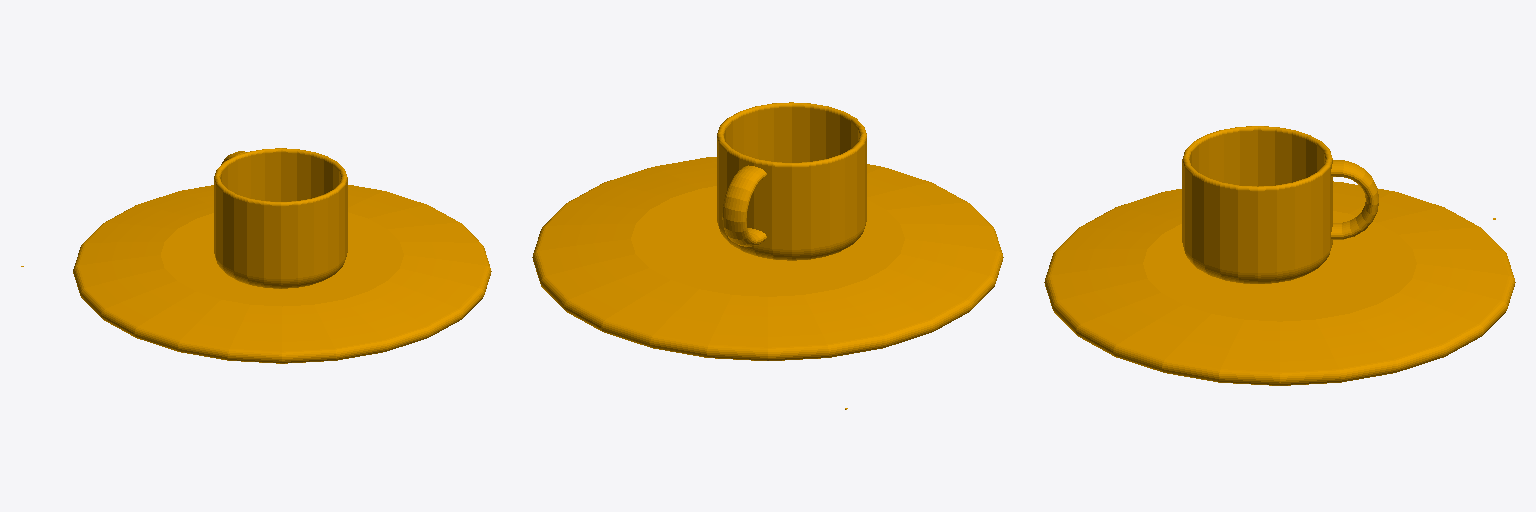
URDF robot description (my_object):
<?xml version="1.0" ?> 
<robot name="my_object">
  <link name="base_link">
  <inertial>
    <mass value="0.01" />
    <origin xyz="0 0 0.0" />
    <inertia  ixx="1.0" ixy="0.0"  ixz="0.0"  iyy="1.0"  iyz="0.0"  izz="1.0" />
  </inertial>
  <visual>
   <origin xyz="0 0 0.0" rpy="0 0 0" />
   <geometry>
     <mesh filename="package://cob_gazebo_objects/Media/models/cupAndPlate.dae" scale="0.2 0.2 0.2" />
   </geometry>
  </visual>
  <collision>
   <origin xyz="0 0 0.0" rpy="0 0 0" />
   <geometry>
     <!--mesh filename="package://cob_gazebo_objects/Media/models/cupAndPlate.dae" scale="0.2 0.2 0.2"-->
   </geometry>
  </collision>     
  </link>

<gazebo>
	<static>true</static>
</gazebo>
</robot>

--- What the picture shows (computed from the rendered views, not written in the file) ---
3 views of the same robot in one strip: view 1: azimuth 30°, elevation 25°; view 2: azimuth 150°, elevation 25°; view 3: azimuth 270°, elevation 25° (orthographic).
Model my_object with 1 links and 0 joints (none), rooted at base_link, posed all joints at 0.
Visible links, largest first — view 1: base_link; view 2: base_link; view 3: base_link.
Link boxes in pixels (bbox=[...]): base_link: bbox=[21, 148, 491, 363]; base_link: bbox=[532, 102, 1003, 409]; base_link: bbox=[1044, 126, 1515, 385].
Bounding box of the posed robot: 0.0061 × 0.0061 × 0.0021 m (x, y, z).
Meshes: 1 distinct files referenced, 1 mesh visuals loaded (1 Collada DAE).